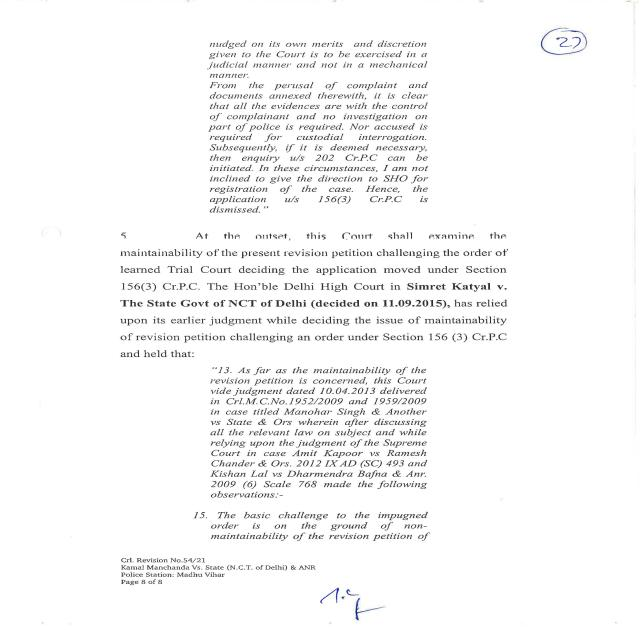page-number: (435, 4, 629, 225)
